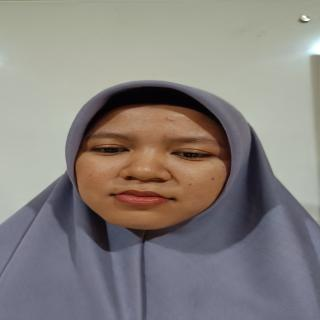Sedih: (68, 96, 244, 240)
